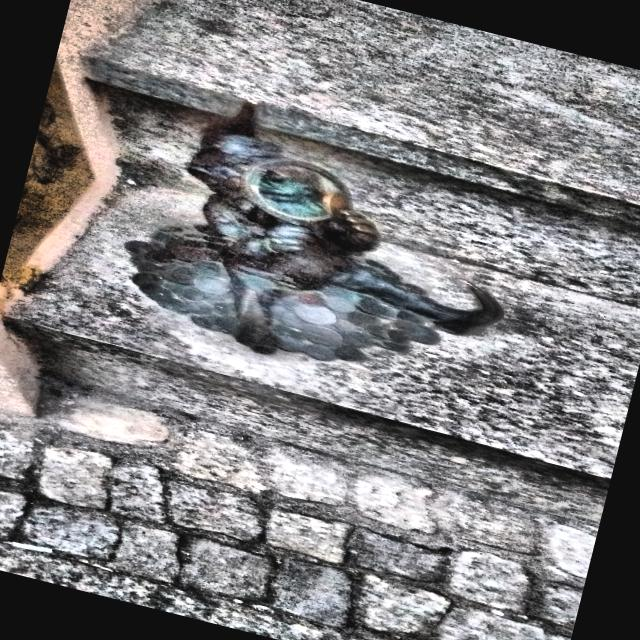Numizmatyk: (125, 102, 502, 361)
